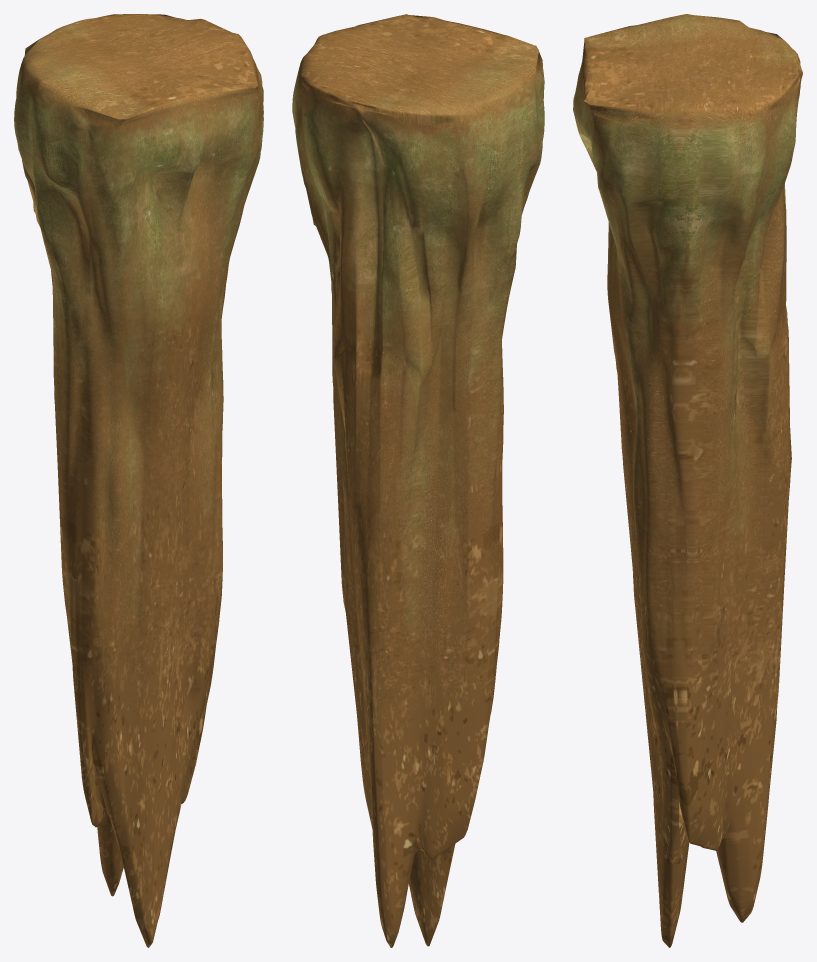
File: Planices.fbx
3 views of the same model, side by side, from view 1: azimuth 30°, elevation 25°; view 2: azimuth 150°, elevation 25°; view 3: azimuth 270°, elevation 25° (orthographic).
Visible parts, largest first — view 1: Cube; view 2: Cube; view 3: Cube.
Part boxes in pixels (x1,y1,x2,y2): Cube: (14,14,263,947); Cube: (292,14,544,947); Cube: (573,14,802,947).
Size of the model in its own units: 417 by 1631 by 383.
